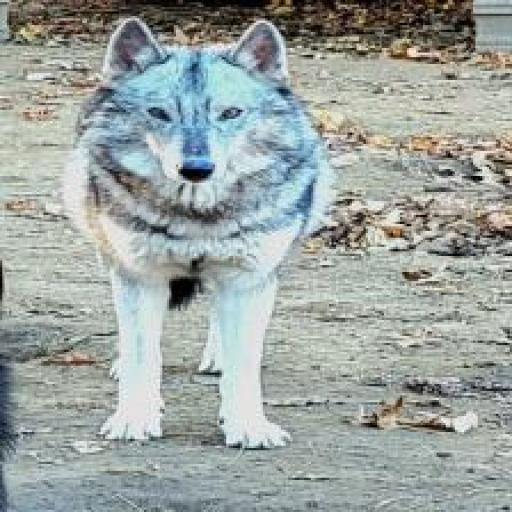wolf: (14, 0, 340, 471)
